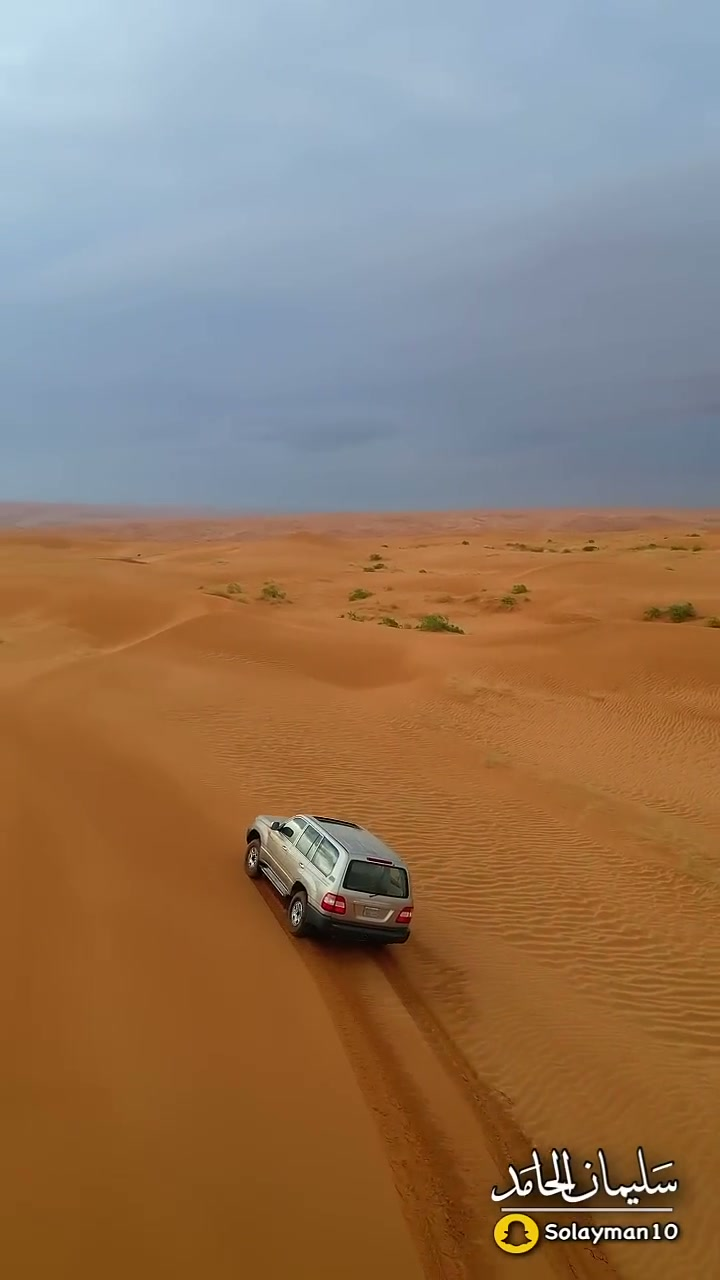vehicle_track: (293, 939, 531, 1279)
